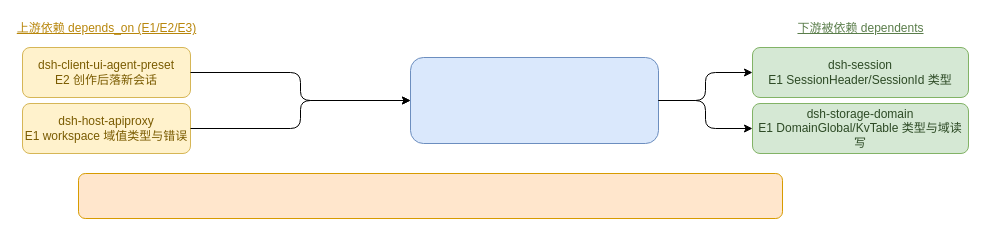
This 986x236 diagram has some shape labels left out. Here are the shapes that lost their labels. From the top down, the box of each, then its label:
(410, 56, 658, 144): dsh-workspace @deepseek-ai/dsh-workspace
(78, 172, 782, 218): provides 关键项 • ctx.workspaceRegistry（WorkspaceRegi…
